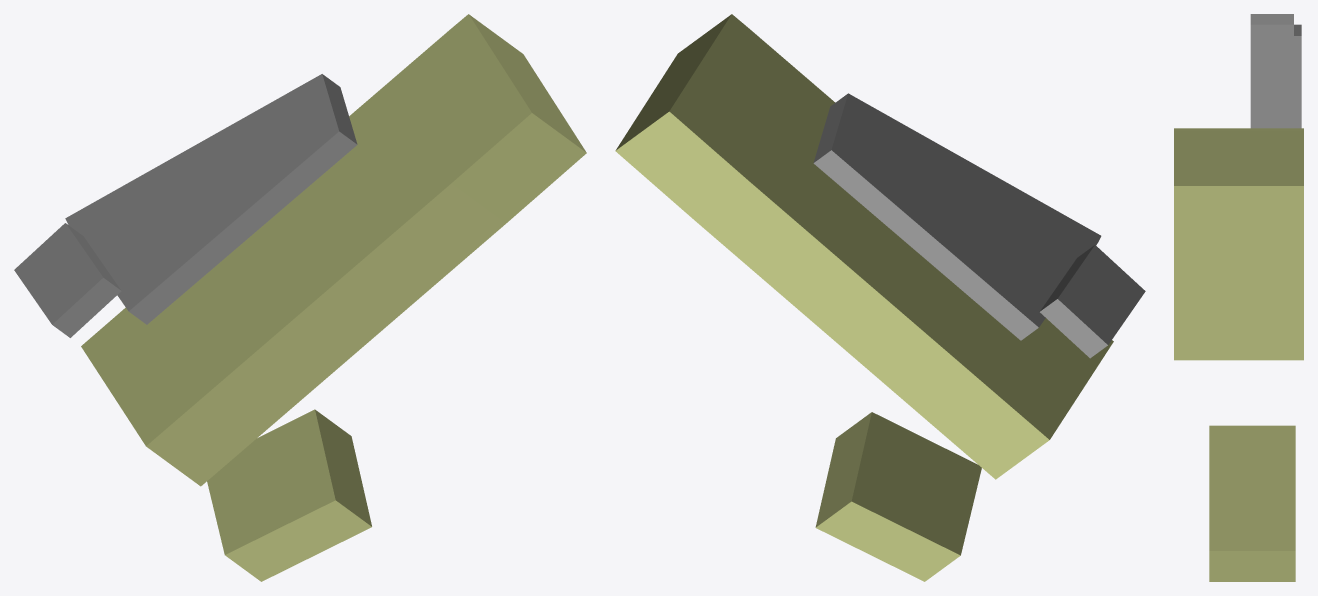
The picture shows the model from 3 angles, left to right: view 1: azimuth 30°, elevation 25°; view 2: azimuth 150°, elevation 25°; view 3: azimuth 270°, elevation 25°; orthographic projection. The views are drawn at different scales.
Parts seen in each view (by area): view 1: 0_1_2_0_0_2_0_1_2; view 2: 0_1_2_0_0_2_0_1_2; view 3: 0_1_2_0_0_2_0_1_2.
Boxes of the visible parts, x1=… form: 0_1_2_0_0_2_0_1_2: x1=14, y1=14, x2=586, y2=581; 0_1_2_0_0_2_0_1_2: x1=615, y1=14, x2=1145, y2=581; 0_1_2_0_0_2_0_1_2: x1=1174, y1=14, x2=1303, y2=581.
Size of the model in its own units: 49.13 by 43.27 by 9.
